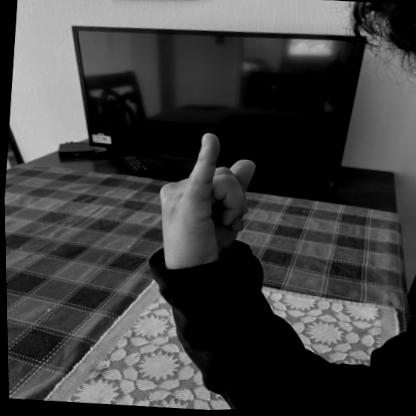I: (148, 124, 265, 282)
